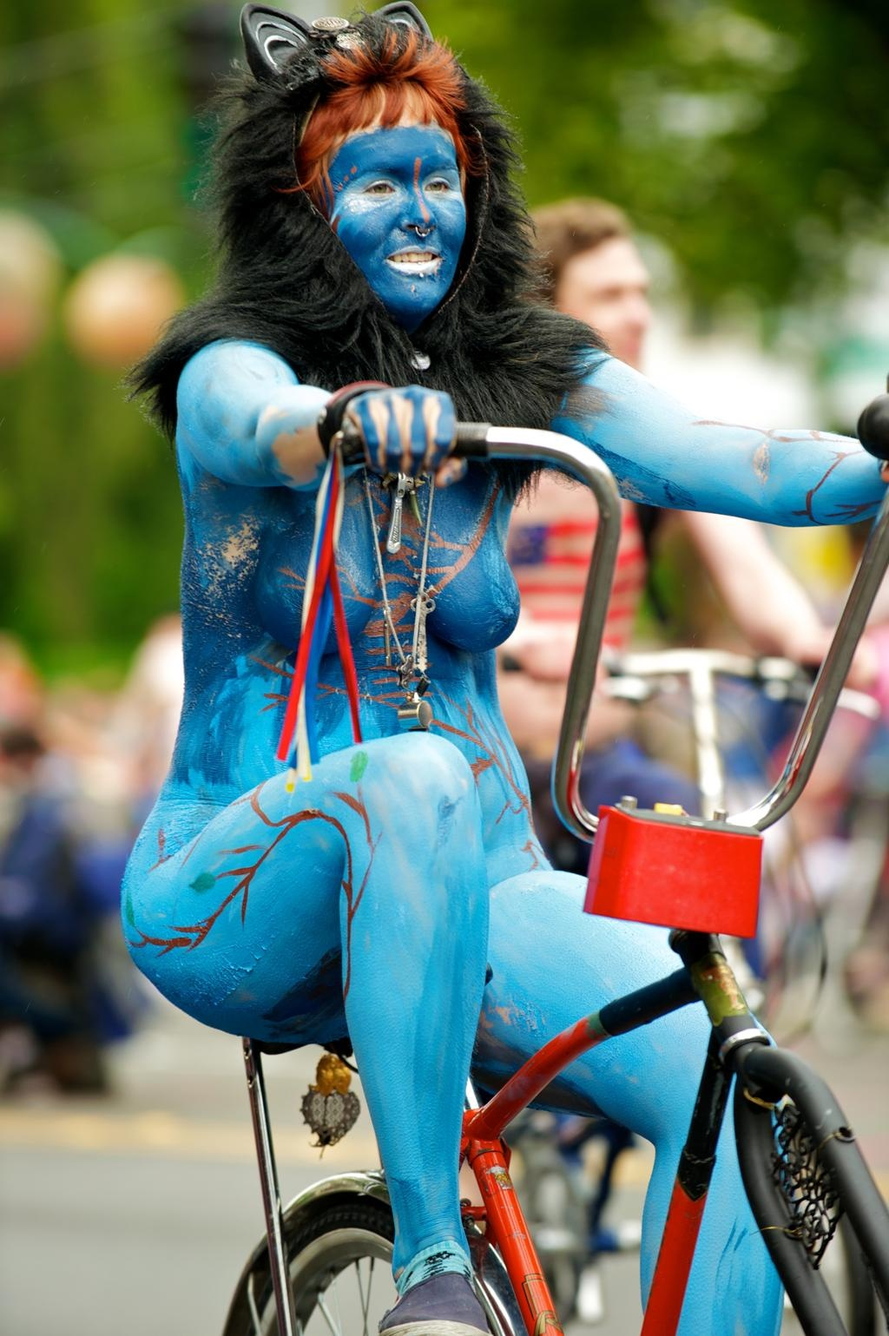human_face: (315, 101, 466, 307), (553, 240, 647, 375)
